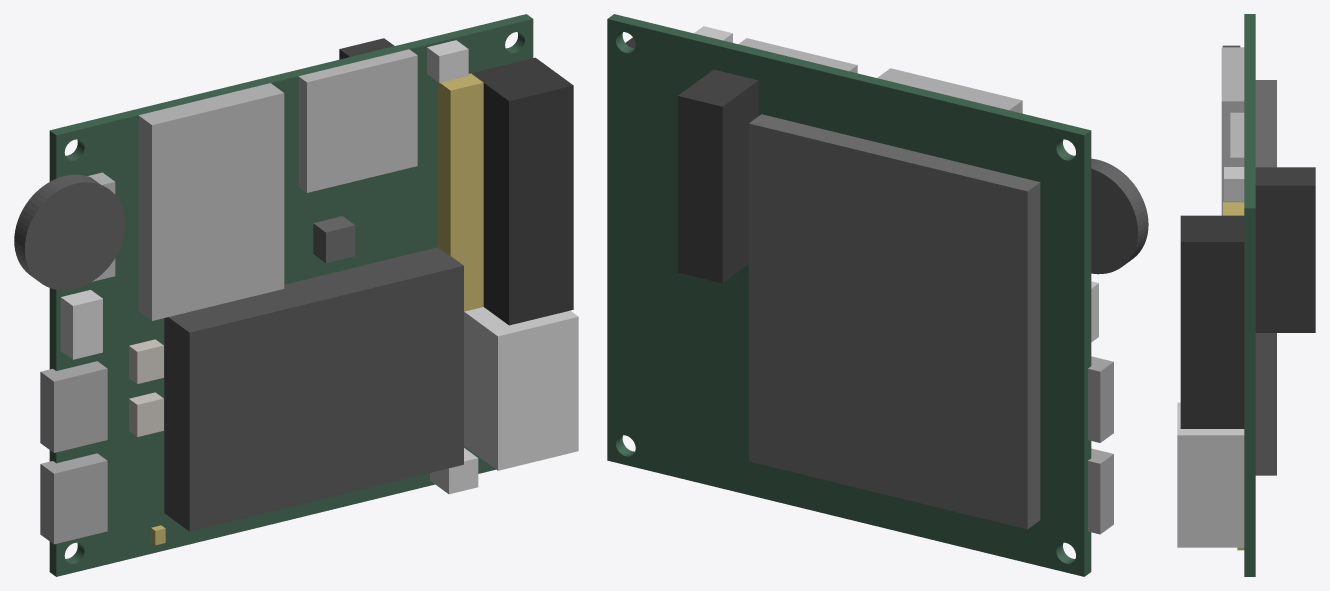
File: seengreat_board.glb
3 views of the same model, side by side, from view 1: azimuth 30°, elevation 25°; view 2: azimuth 150°, elevation 25°; view 3: azimuth 270°, elevation 25° (orthographic). The views are drawn at different scales.
Visible parts, largest first — view 1: geometry_0; view 2: geometry_0; view 3: geometry_0.
Boxes of the visible parts, x1,y1,x2,y2 form: geometry_0: (14,14,578,576); geometry_0: (607,14,1148,576); geometry_0: (1177,14,1315,576).
Bounding box in the file's own units: 71.75 × 57.5 × 19.6.
